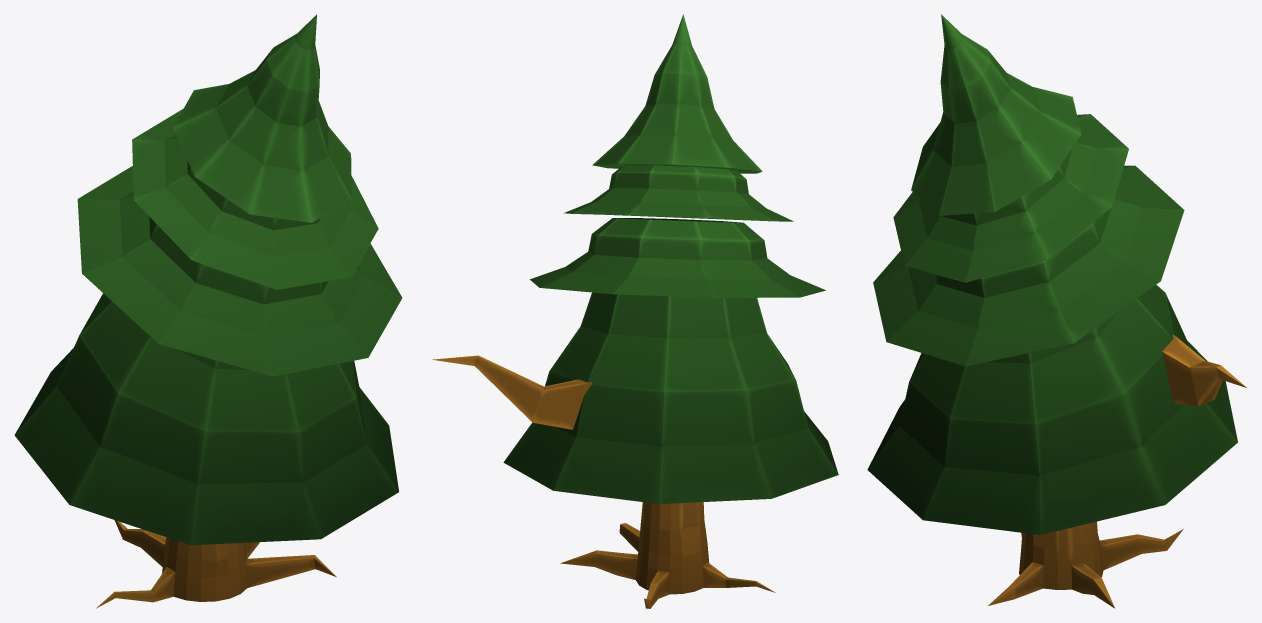
The model's file is arbol_02.fbx.
3 renders of one model, left to right at view 1: azimuth 30°, elevation 25°; view 2: azimuth 150°, elevation 25°; view 3: azimuth 270°, elevation 25°, orthographic. The views are drawn at different scales.
Parts seen in each view (by area): view 1: arbol002; view 2: arbol002; view 3: arbol002.
Boxes of the visible parts, x1=… form: arbol002: x1=14, y1=14, x2=402, y2=608; arbol002: x1=432, y1=14, x2=838, y2=608; arbol002: x1=867, y1=14, x2=1246, y2=608.
Bounding box in the file's own units: 148 × 243 × 144.
